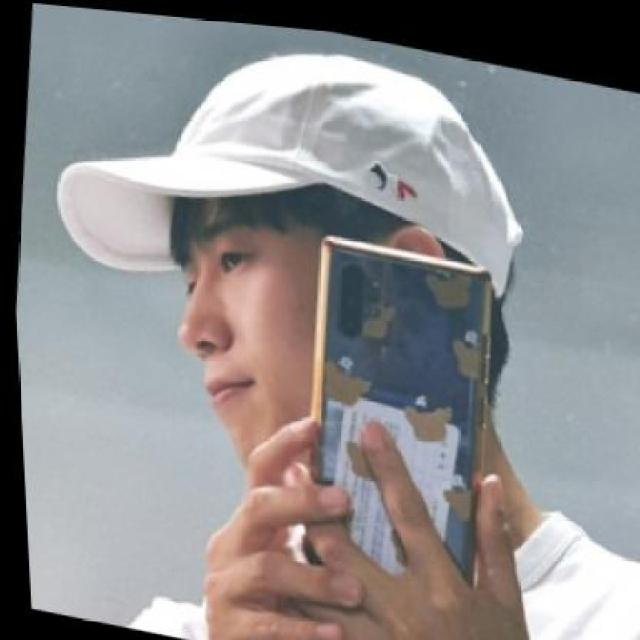hat: (55, 44, 521, 283)
